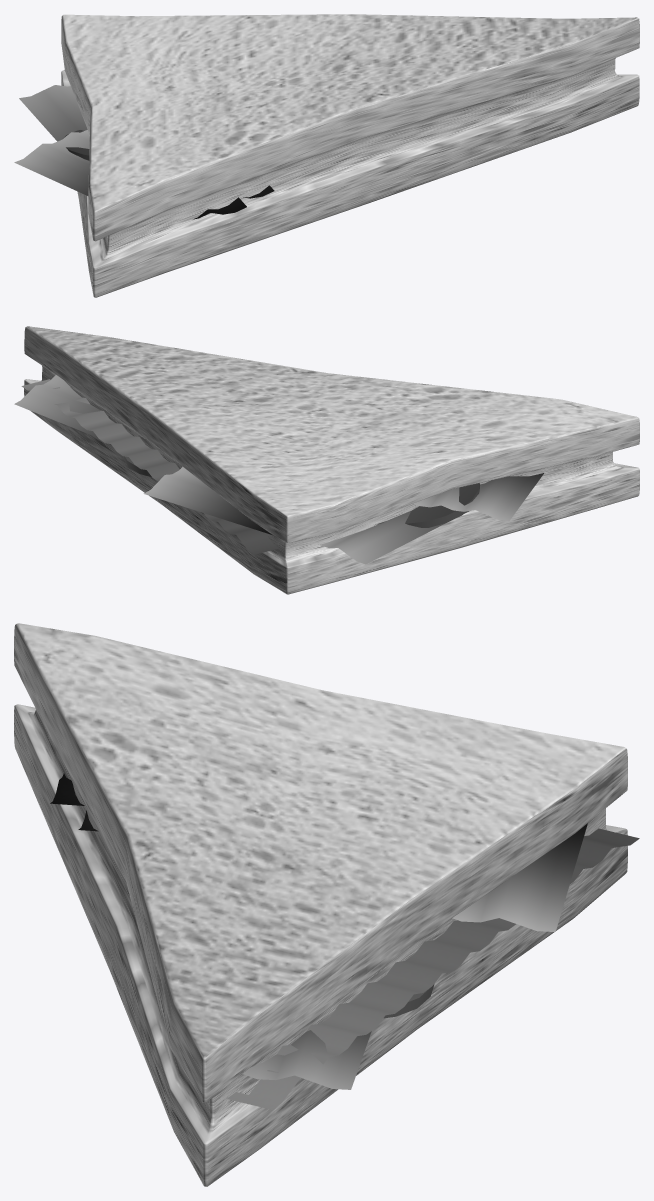
The model's file is SandwichHalf.fbx.
The picture shows the model from 3 angles, top to bottom: view 1: azimuth 30°, elevation 25°; view 2: azimuth 150°, elevation 25°; view 3: azimuth 270°, elevation 25°; orthographic projection. The views are drawn at different scales.
Parts seen in each view (by area): view 1: sandwich_half; view 2: sandwich_half; view 3: sandwich_half.
Boxes of the visible parts, x1,y1,x2,y2 form: sandwich_half: (14, 14, 639, 297); sandwich_half: (14, 326, 639, 594); sandwich_half: (14, 623, 639, 1186).
Bounding box in the file's own units: 0.2382 × 0.0368 × 0.1448.
